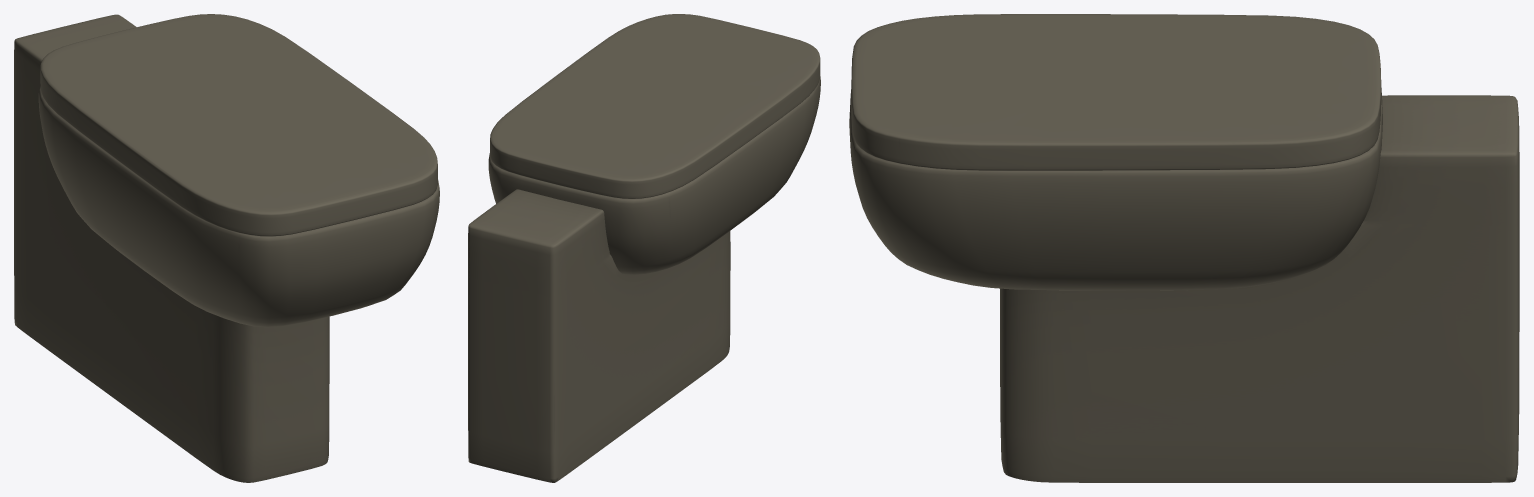
Rendered from Sanitary ware _006.gltf.
3 renders of one model, left to right at view 1: azimuth 30°, elevation 25°; view 2: azimuth 150°, elevation 25°; view 3: azimuth 270°, elevation 25°, orthographic. The views are drawn at different scales.
Parts seen in each view (by area): view 1: Sanitary ware _006; view 2: Sanitary ware _006; view 3: Sanitary ware _006.
Boxes of the visible parts, x1,y1,x2,y2 form: Sanitary ware _006: [14, 14, 439, 482]; Sanitary ware _006: [468, 14, 820, 482]; Sanitary ware _006: [849, 14, 1519, 482].
Size of the model in its own units: 0.255 by 0.335 by 0.54.
1 material, 1 textured.
